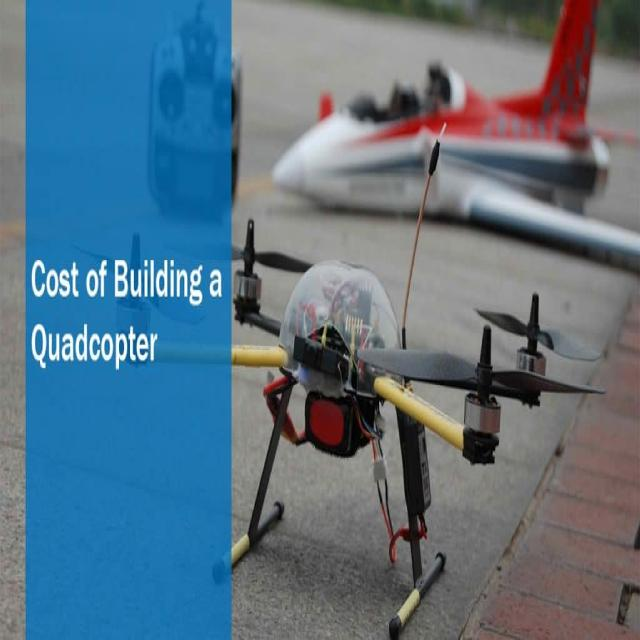drone: (236, 189, 620, 640)
